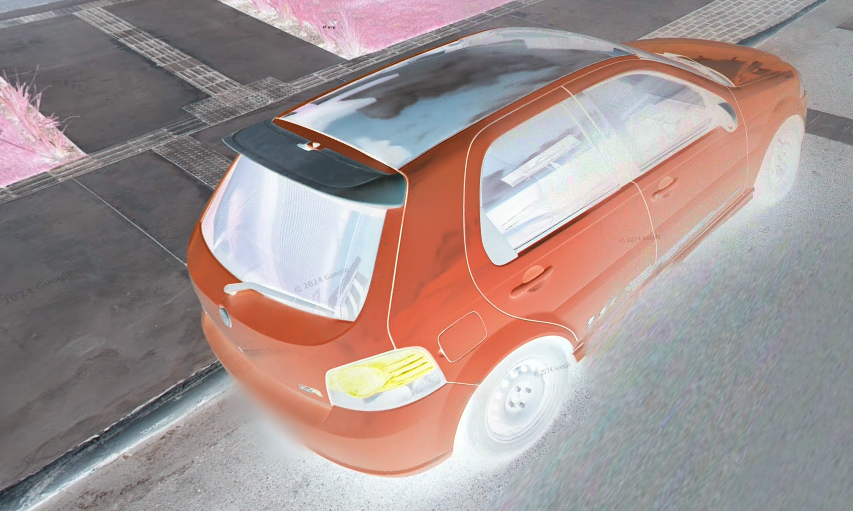car: (188, 25, 808, 477)
